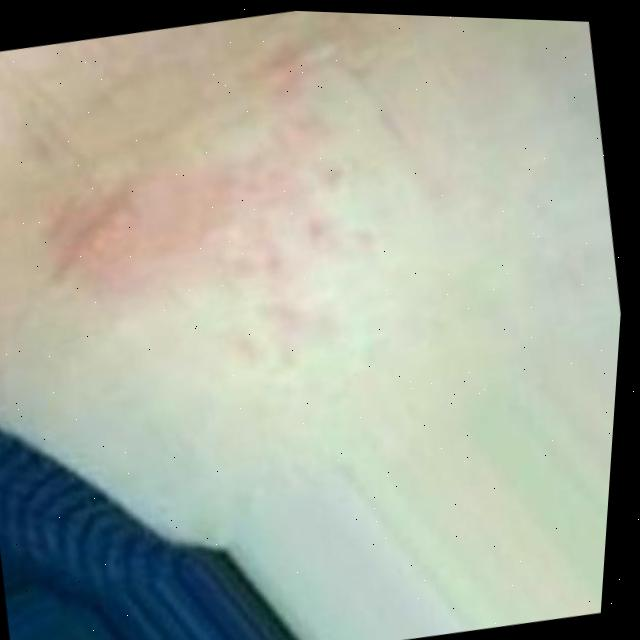Shingles: (0, 13, 411, 427)
